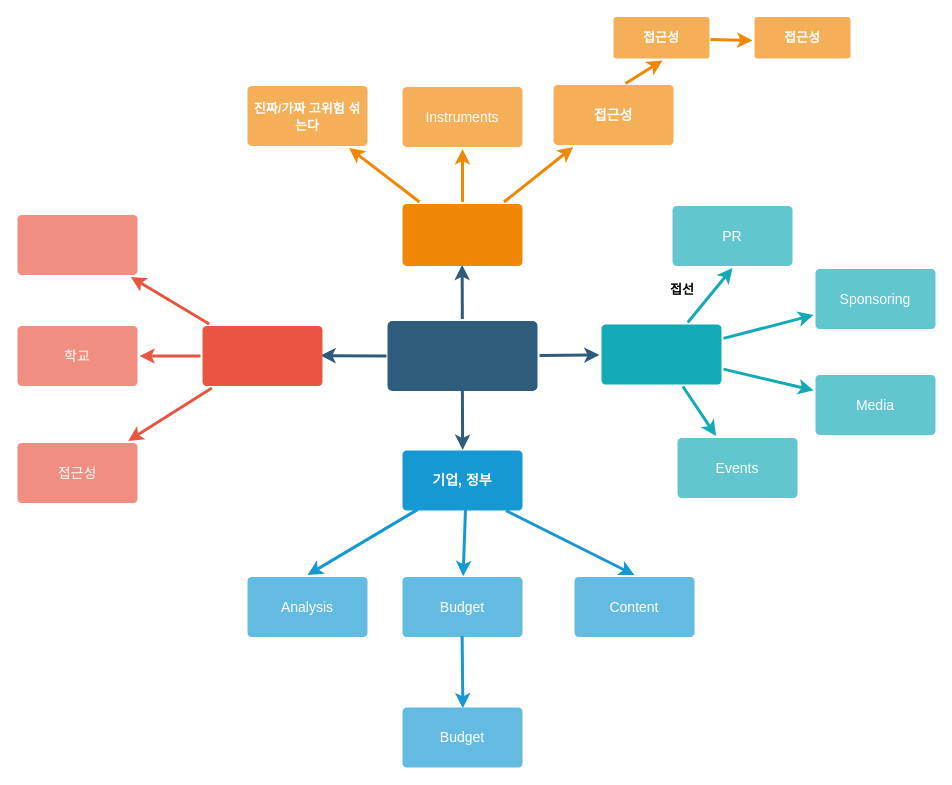
The diagram is 952 pixels wide and 785 high, and some of its shapes have lost their labels. The centre of each missing label's shape, as x and y in pixels:
"고위험 청소년" belongs at [462,235].
"버스" belongs at [462,355].
"상담사" belongs at [661,354].
"지역사회" belongs at [262,356].
